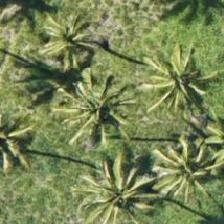coconut_tree: (127, 35, 217, 125), (136, 122, 223, 212)
